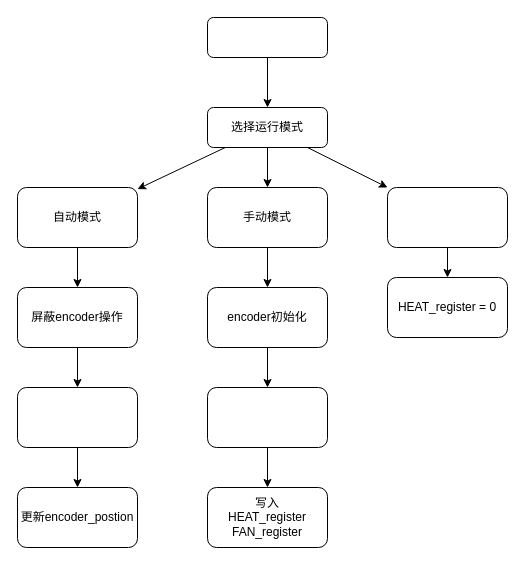
Some shapes in this 525 by 565 pixel diagram are drawn without their labels. The shapes that lost their labels are listed below. From the top down, each one's box as (x1, y1, x2, y2) in pixels, then its label:
(206, 16, 328, 58): 开始
(386, 186, 508, 248): 停止
(16, 386, 138, 448): modbus数据与Artisan数据交互 HEAT/FAN register
(206, 386, 328, 448): 操作encoder_postion
